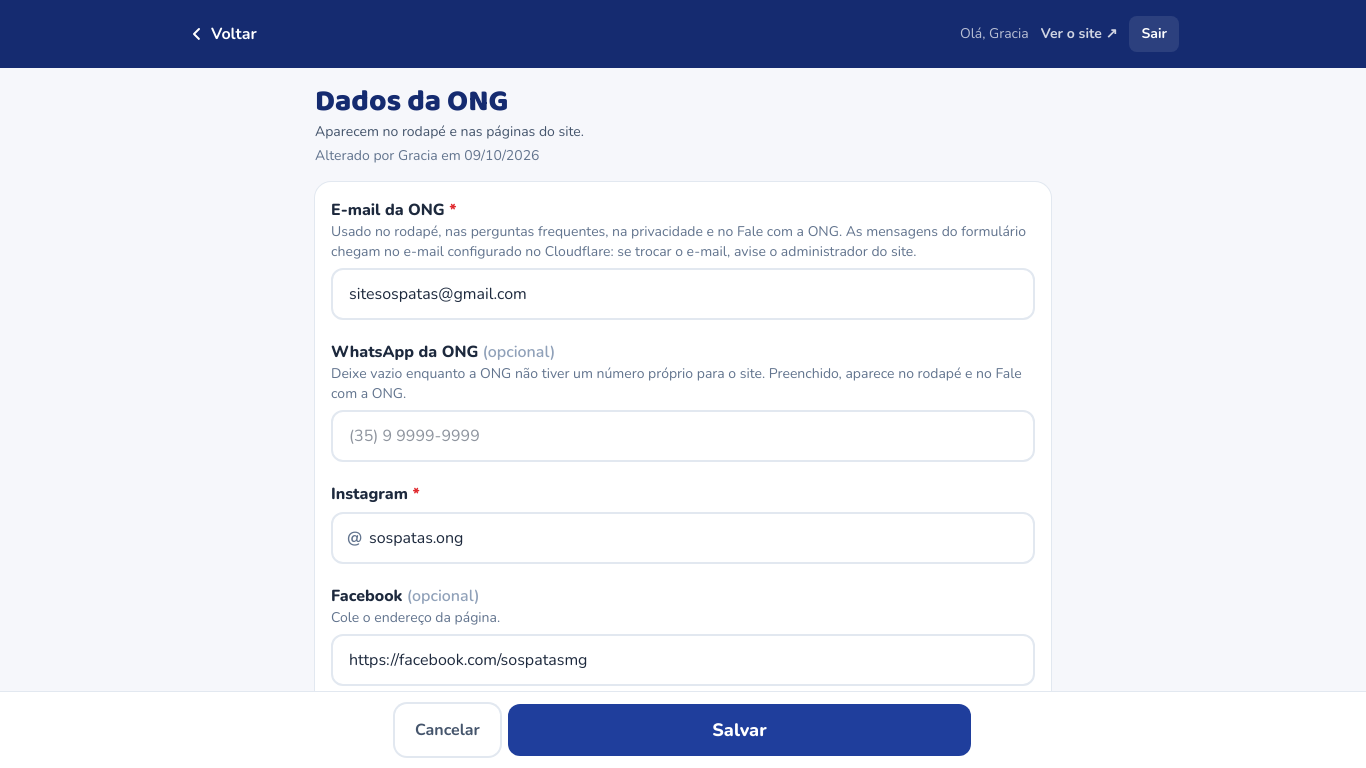
Test: T23 · Dados da ONG › salva o WhatsApp novo e avisa "Salvo e publicado" com o link do site
Type "(35) 9 8843-9614" into the field labelled "WhatsApp da ONG (opcional)" at point(683, 436), box [331,410,1035,462]
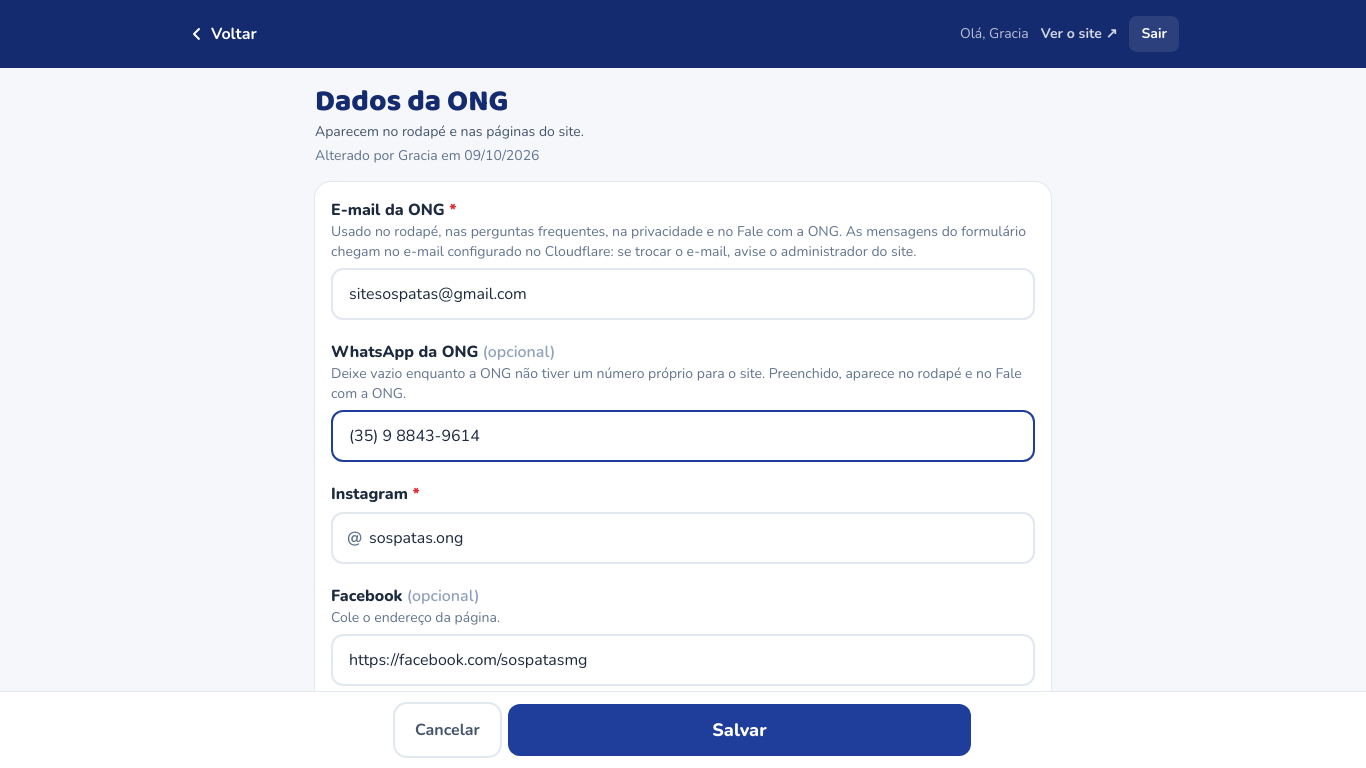
Click the button "Salvar" at point(739, 730), box [508,704,971,756]
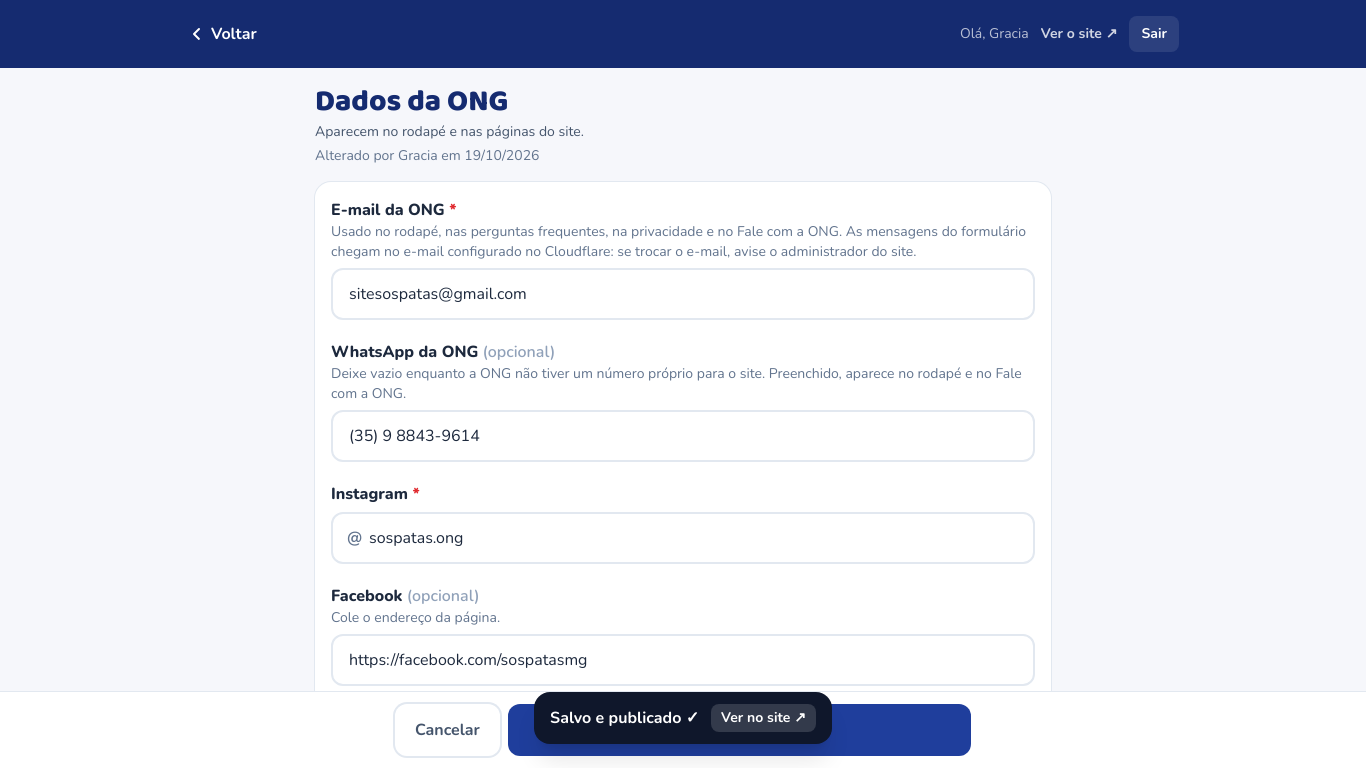
Now the text "Salvo e publicado ✓" is shown, box [550,707,699,729]
